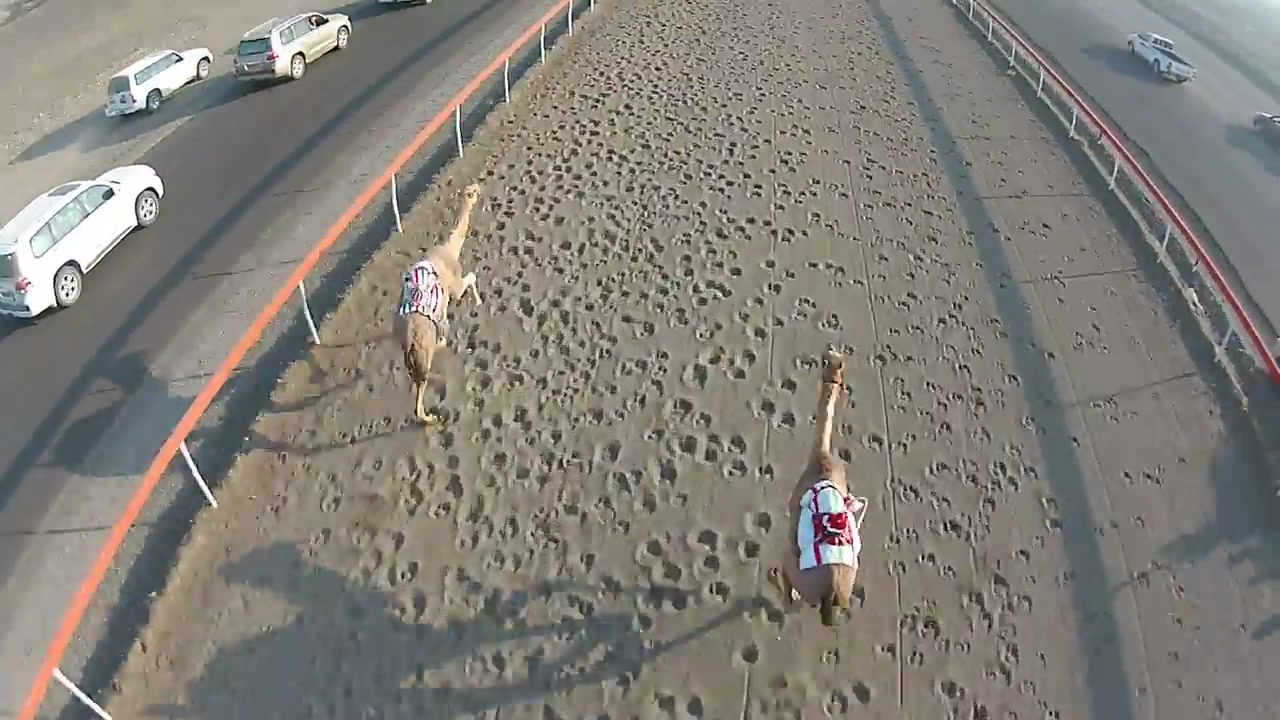animal_footprint: (377, 38, 657, 560), (500, 234, 706, 719), (668, 60, 828, 677), (814, 84, 911, 719)
